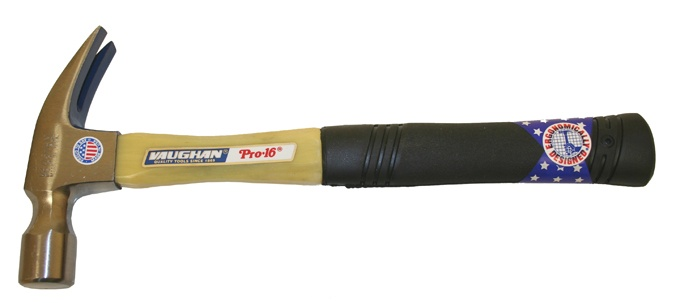hammer: (18, 26, 657, 285)
